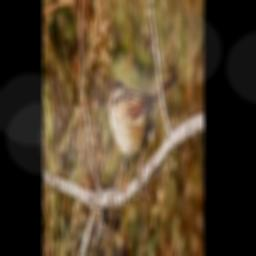Sparrow: (105, 74, 177, 204)
